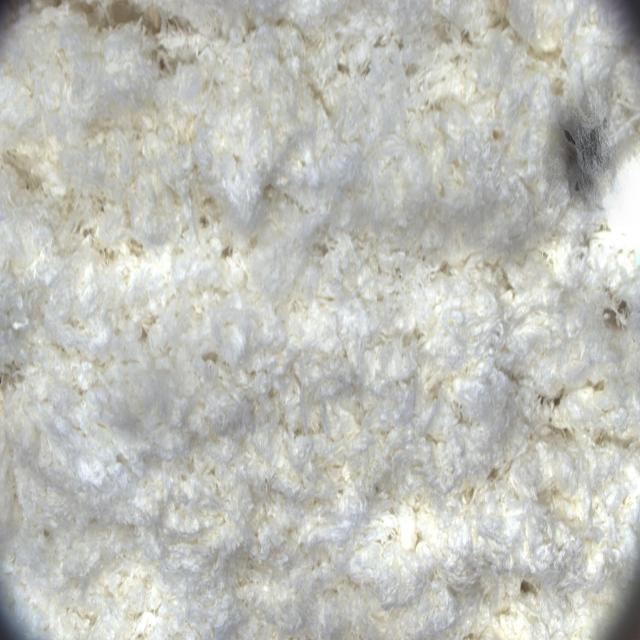dust: (502, 50, 640, 231)
